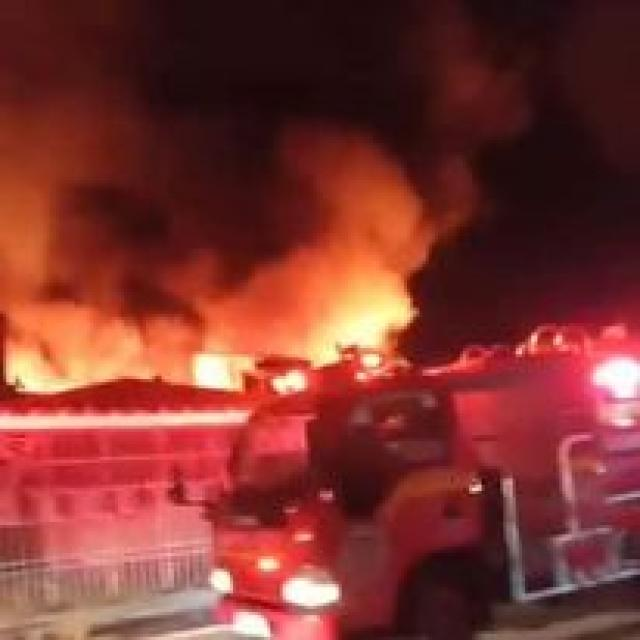Smoke: (4, 4, 640, 180), (6, 188, 426, 304)
